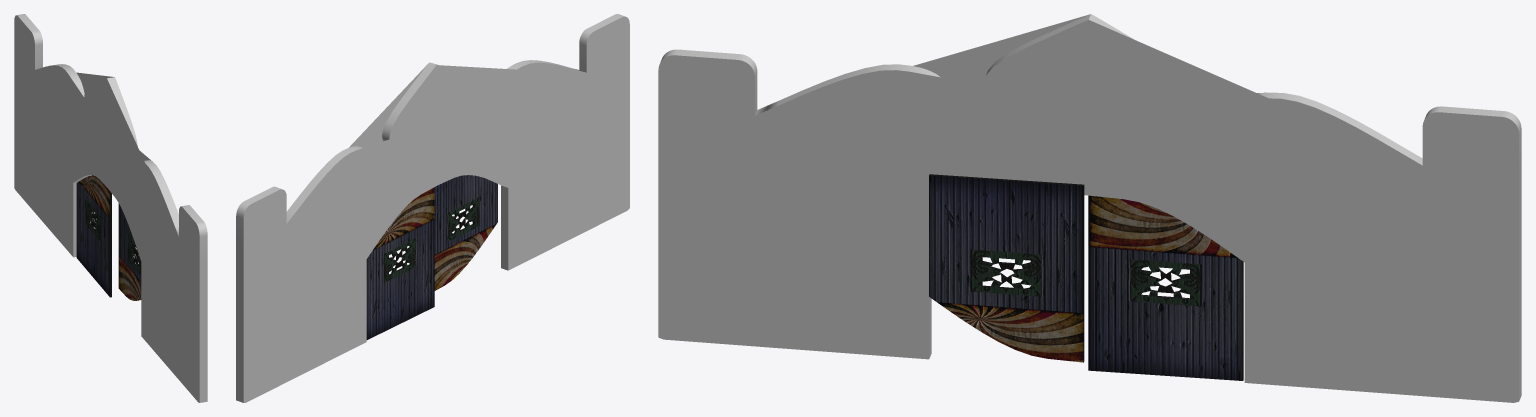
The model's file is Main_Door.FBX.
3 renders of one model, left to right at view 1: azimuth 30°, elevation 25°; view 2: azimuth 150°, elevation 25°; view 3: azimuth 270°, elevation 25°, orthographic. The views are drawn at different scales.
Parts seen in each view (by area): view 1: main_Door, Line003, Line004; view 2: main_Door, Line003, Line004; view 3: main_Door, Line004, Line003.
Boxes of the visible parts, bbox=[...] form: main_Door: bbox=[14, 14, 207, 402]; Line003: bbox=[76, 175, 111, 297]; Line004: bbox=[118, 203, 141, 300]; main_Door: bbox=[236, 14, 629, 402]; Line003: bbox=[366, 187, 434, 339]; Line004: bbox=[434, 175, 497, 290]; main_Door: bbox=[658, 14, 1521, 402]; Line004: bbox=[929, 174, 1084, 362]; Line003: bbox=[1088, 195, 1243, 380].
Size of the model in its own units: 70.3 by 166 by 367.
